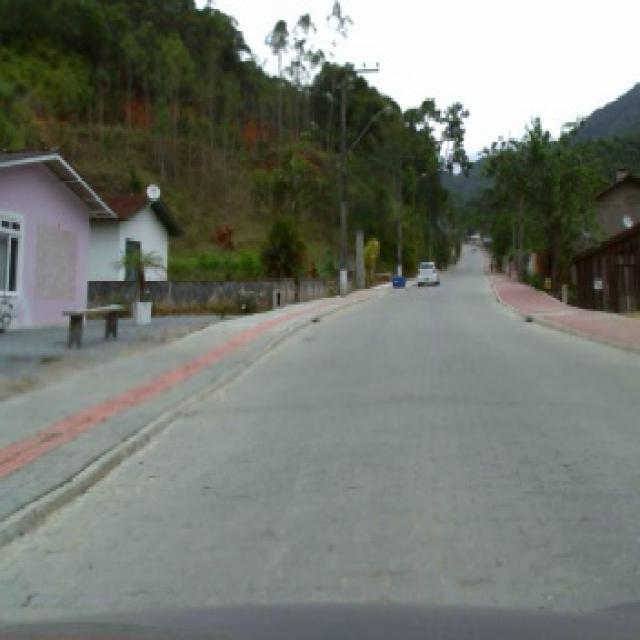Poth-hole: (528, 314, 536, 322), (313, 316, 322, 322)
